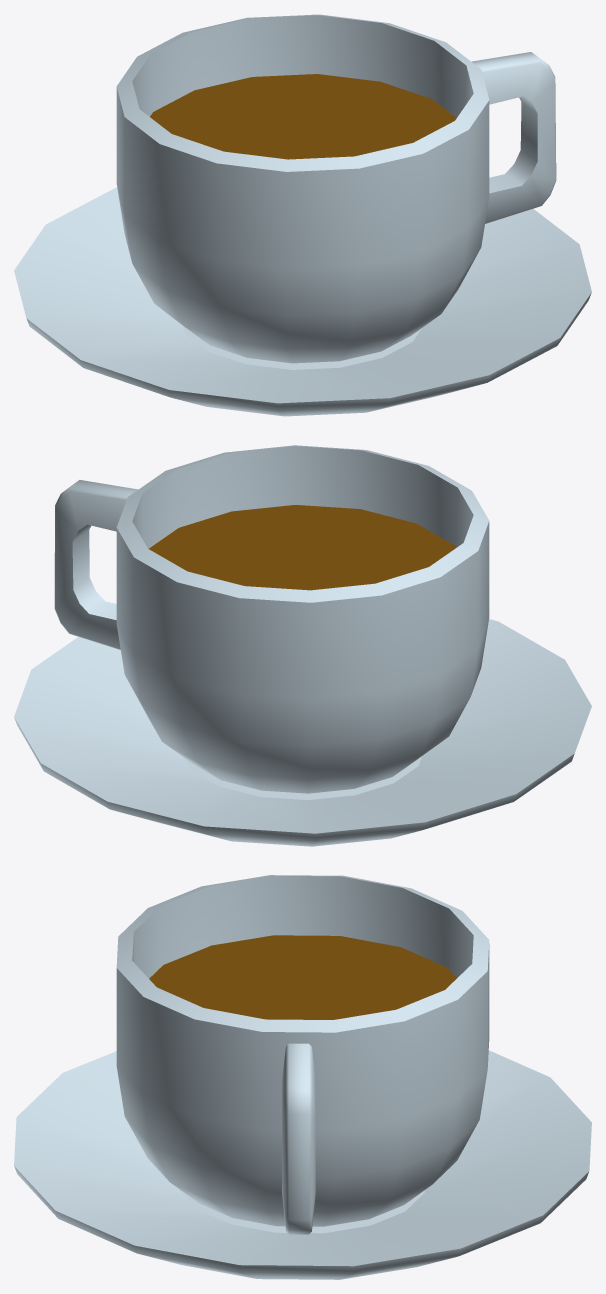
Rendered from Coffee-Cup-2.fbx.
3 views of the same model, one above another, from view 1: azimuth 30°, elevation 25°; view 2: azimuth 150°, elevation 25°; view 3: azimuth 270°, elevation 25° (orthographic).
Parts seen in each view (by area): view 1: Coffee-Cup-2; view 2: Coffee-Cup-2; view 3: Coffee-Cup-2.
Part boxes in pixels (bbox=[...]): Coffee-Cup-2: bbox=[14, 14, 591, 416]; Coffee-Cup-2: bbox=[14, 445, 591, 846]; Coffee-Cup-2: bbox=[14, 875, 591, 1279].
Bounding box in the file's own units: 0.1519 × 0.0707 × 0.1519.
